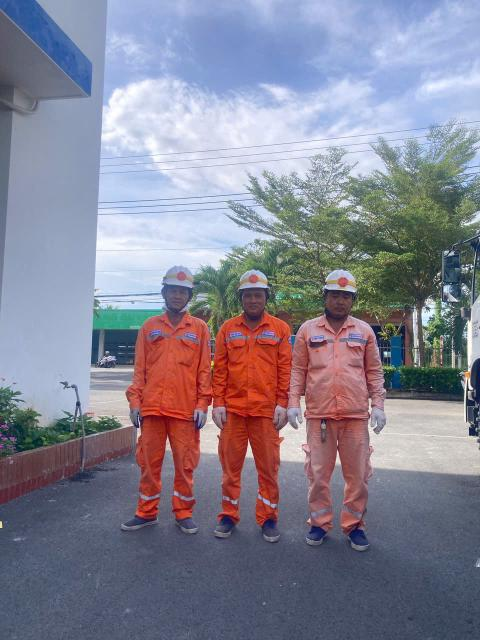gloves: (366, 403, 389, 434), (284, 401, 306, 429), (188, 406, 211, 431), (125, 409, 148, 428), (273, 404, 288, 431), (211, 404, 227, 429)
helmet: (316, 267, 363, 296), (157, 263, 198, 294), (234, 266, 272, 292)
shoes: (118, 506, 158, 531), (251, 516, 281, 546), (342, 525, 374, 552), (171, 508, 199, 536), (211, 515, 238, 538), (303, 523, 328, 547)
